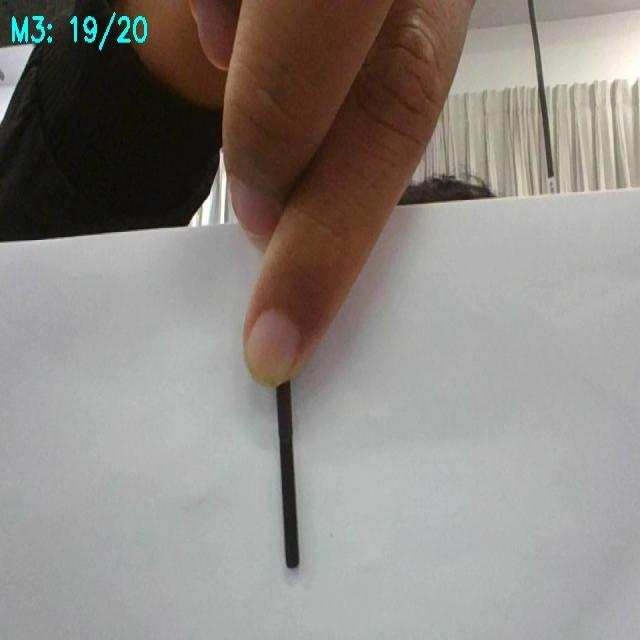vastago: (276, 386, 300, 568)
